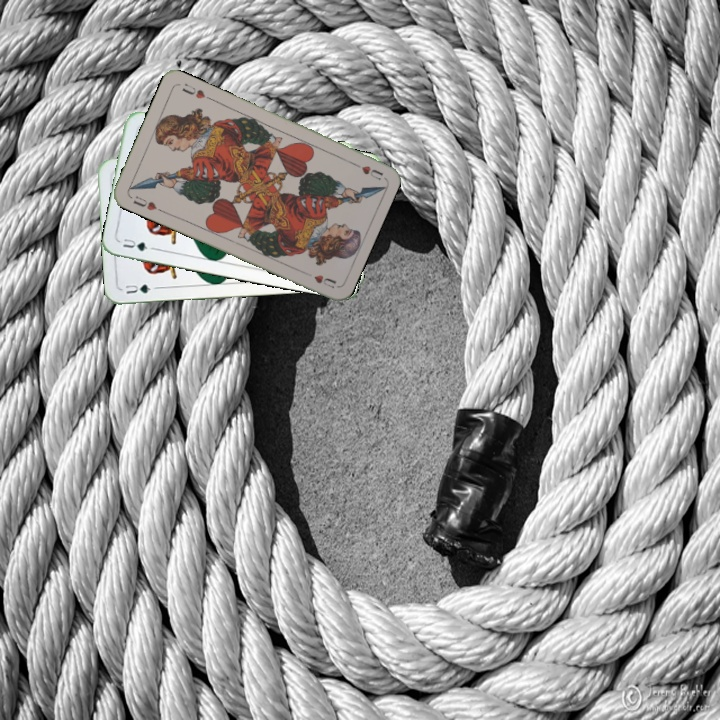GU: (119, 234, 157, 254), (120, 280, 160, 296)
HU: (347, 157, 385, 183), (129, 192, 165, 214)
